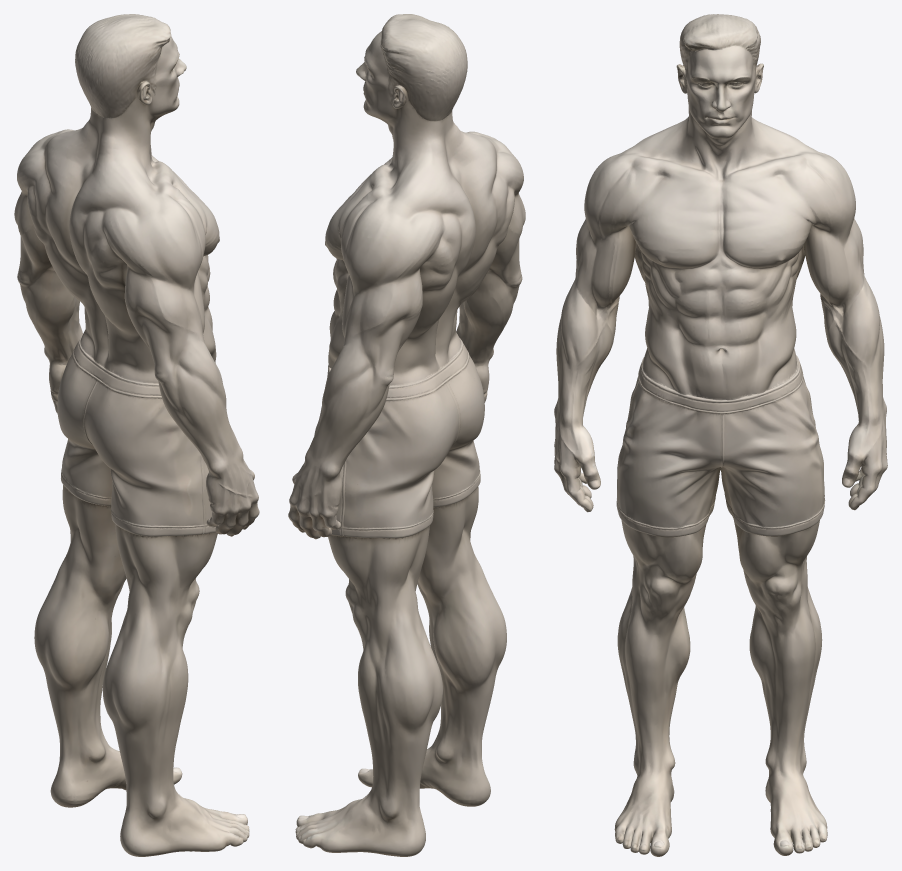
The model's file is fitcheck-sculpture-tripo-v1.glb.
The picture shows the model from 3 angles, left to right: view 1: azimuth 30°, elevation 25°; view 2: azimuth 150°, elevation 25°; view 3: azimuth 270°, elevation 25°; orthographic projection.
Visible parts, largest first — view 1: tripo_node_3734b9a7-c0e6-4fbf-ad86-092c190ea5b8; view 2: tripo_node_3734b9a7-c0e6-4fbf-ad86-092c190ea5b8; view 3: tripo_node_3734b9a7-c0e6-4fbf-ad86-092c190ea5b8.
Part boxes in pixels (x1,y1,x2,y2): tripo_node_3734b9a7-c0e6-4fbf-ad86-092c190ea5b8: (14,14,259,856); tripo_node_3734b9a7-c0e6-4fbf-ad86-092c190ea5b8: (288,14,525,856); tripo_node_3734b9a7-c0e6-4fbf-ad86-092c190ea5b8: (554,14,887,856).
Size of the model in its own units: 0.1967 by 0.9808 by 0.3716.
Materials: 1 (1 with a texture image).
